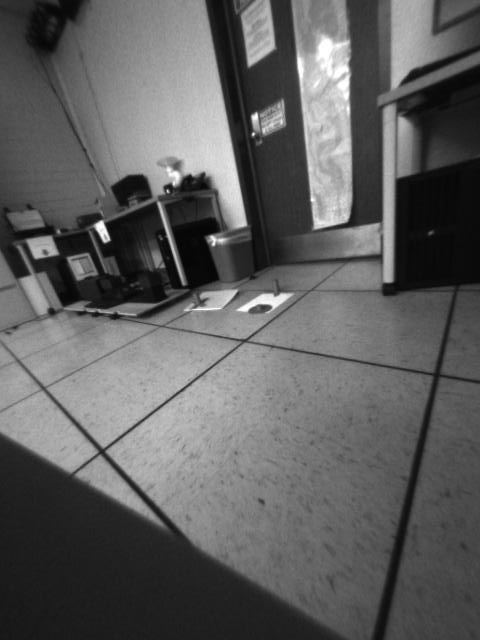X: (264, 279, 289, 297), (189, 294, 209, 310)
